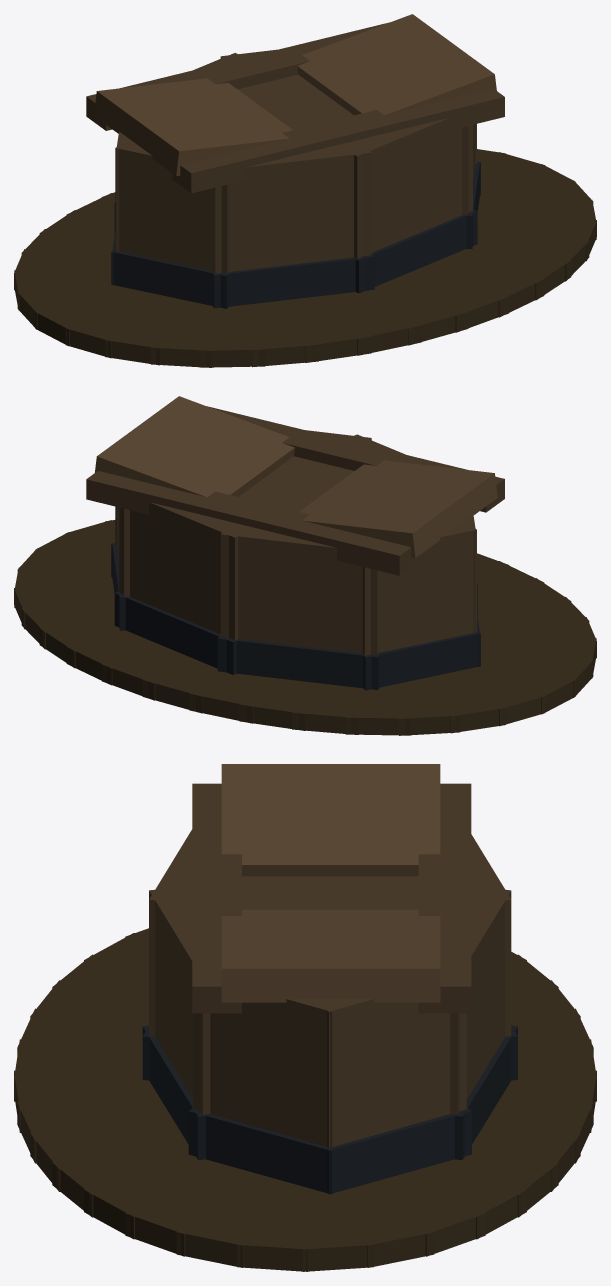
File: CMU3DRMCHeadCapFedoraBrownWorldCloud.glb
The picture shows the model from 3 angles, top to bottom: view 1: azimuth 30°, elevation 25°; view 2: azimuth 150°, elevation 25°; view 3: azimuth 270°, elevation 25°; orthographic projection. The views are drawn at different scales.
Parts seen in each view (by area): view 1: open eight-sided crown facet 05, right creased crown roof, open eight-sided crown facet 06, left creased crown roof, open eight-sided crown facet 04, front crown top, dark woven crown ribbon facet 05, rear crown top, dark woven crown ribbon facet 04, dark woven crown ribbon facet 06, broad flat brim facet 19, broad flat brim facet 21 (+27 smaller); view 2: open eight-sided crown facet 02, right creased crown roof, left creased crown roof, open eight-sided crown facet 01, open eight-sided crown facet 03, rear crown top, dark woven crown ribbon facet 02, dark woven crown ribbon facet 01, dark woven crown ribbon facet 03, front crown top, recessed center crown crease, broad flat brim facet 11 (+25 smaller); view 3: left creased crown roof, right creased crown roof, open eight-sided crown facet 00, open eight-sided crown facet 07, rear crown top, front crown top, open eight-sided crown facet 06, open eight-sided crown facet 01, dark woven crown ribbon facet 00, dark woven crown ribbon facet 07, broad flat brim facet 25, recessed center crown crease (+28 smaller).
Boxes of the visible parts, <box> form: open eight-sided crown facet 05: <box>214,139,371,273</box>; right creased crown roof: <box>297,14,496,115</box>; open eight-sided crown facet 06: <box>339,117,472,258</box>; left creased crown roof: <box>94,78,292,175</box>; open eight-sided crown facet 04: <box>115,138,229,273</box>; front crown top: <box>172,88,504,193</box>; dark woven crown ribbon facet 05: <box>212,253,374,308</box>; rear crown top: <box>86,22,388,130</box>; dark woven crown ribbon facet 04: <box>111,251,231,308</box>; dark woven crown ribbon facet 06: <box>354,209,477,293</box>; broad flat brim facet 19: <box>150,296,225,367</box>; broad flat brim facet 21: <box>232,299,318,367</box>; open eight-sided crown facet 02: <box>220,521,378,655</box>; right creased crown roof: <box>95,396,294,497</box>; left creased crown roof: <box>299,460,497,558</box>; open eight-sided crown facet 01: <box>119,502,251,640</box>; open eight-sided crown facet 03: <box>362,519,476,655</box>; rear crown top: <box>86,471,419,575</box>; dark woven crown ribbon facet 02: <box>217,636,380,689</box>; dark woven crown ribbon facet 01: <box>114,591,239,674</box>; dark woven crown ribbon facet 03: <box>361,631,480,690</box>; front crown top: <box>207,406,504,512</box>; recessed center crown crease: <box>239,456,354,511</box>; broad flat brim facet 11: <box>345,680,414,735</box>; left creased crown roof: <box>221,764,440,876</box>; right creased crown roof: <box>221,909,440,1002</box>; open eight-sided crown facet 00: <box>309,999,466,1147</box>; open eight-sided crown facet 07: <box>193,999,348,1147</box>; rear crown top: <box>418,783,471,1013</box>; front crown top: <box>192,783,241,1013</box>; open eight-sided crown facet 06: <box>149,885,210,1114</box>; open eight-sided crown facet 01: <box>450,886,511,1114</box>; dark woven crown ribbon facet 00: <box>320,1108,471,1194</box>; dark woven crown ribbon facet 07: <box>188,1108,339,1194</box>; broad flat brim facet 25: <box>17,1091,178,1163</box>; recessed center crown crease: <box>242,876,418,909</box>.
Bounding box in the file's own units: 0.5327 × 0.1644 × 0.376.
